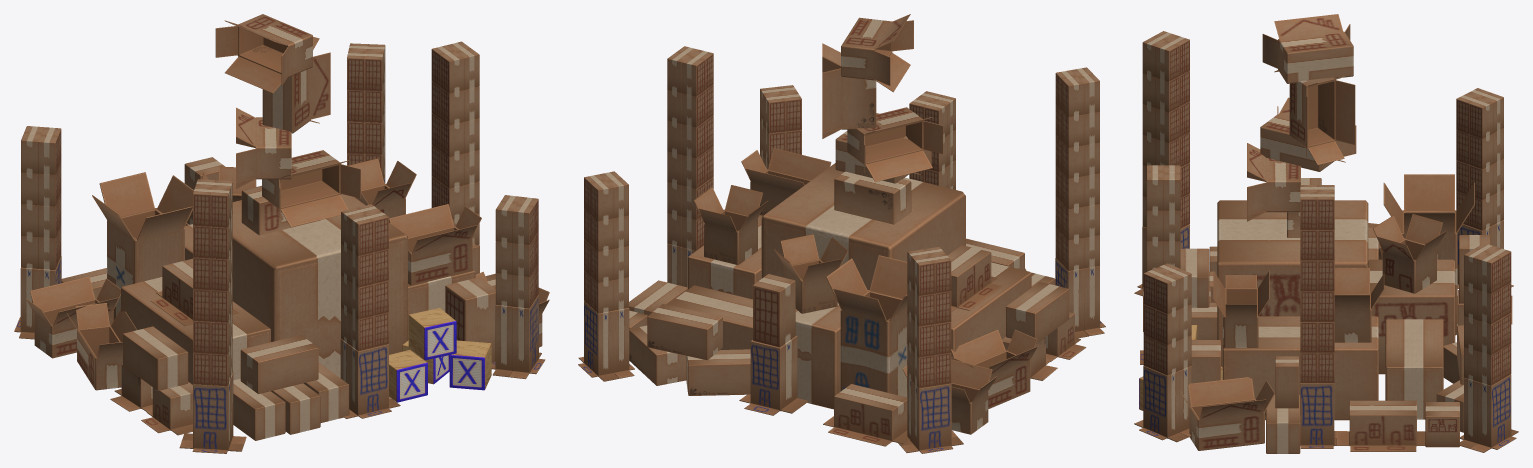
File: S6_revised.fbx
The picture shows the model from 3 angles, left to right: view 1: azimuth 30°, elevation 25°; view 2: azimuth 150°, elevation 25°; view 3: azimuth 270°, elevation 25°; orthographic projection. The views are drawn at different scales.
Visible parts, largest first — view 1: Square_Splayed_Box_low_1; view 2: Square_Splayed_Box_low_1; view 3: Square_Splayed_Box_low_1.
Part boxes in pixels (<box>): Square_Splayed_Box_low_1: <box>14,14,549,453</box>; Square_Splayed_Box_low_1: <box>578,14,1105,453</box>; Square_Splayed_Box_low_1: <box>1134,14,1518,453</box>.
Bounding box in the file's own units: 12925 × 10479 × 11144.
